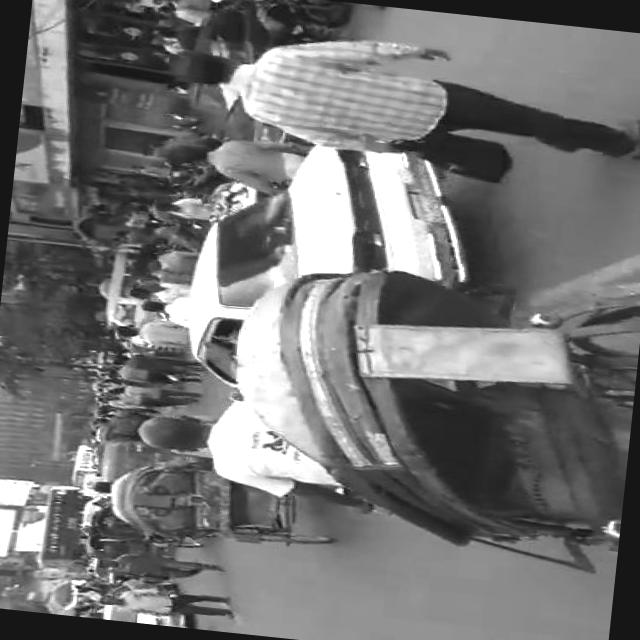bus: (33, 480, 92, 570), (68, 438, 100, 484)
car: (168, 127, 488, 416), (176, 0, 335, 153), (98, 570, 198, 626)
motorcycle: (209, 233, 640, 577), (103, 450, 350, 552), (95, 432, 196, 490)
truck: (94, 241, 169, 351)
